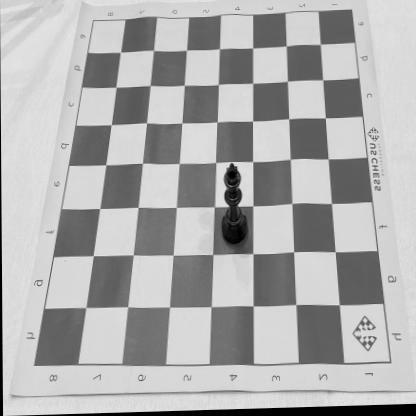black-king: (220, 164, 248, 247)
